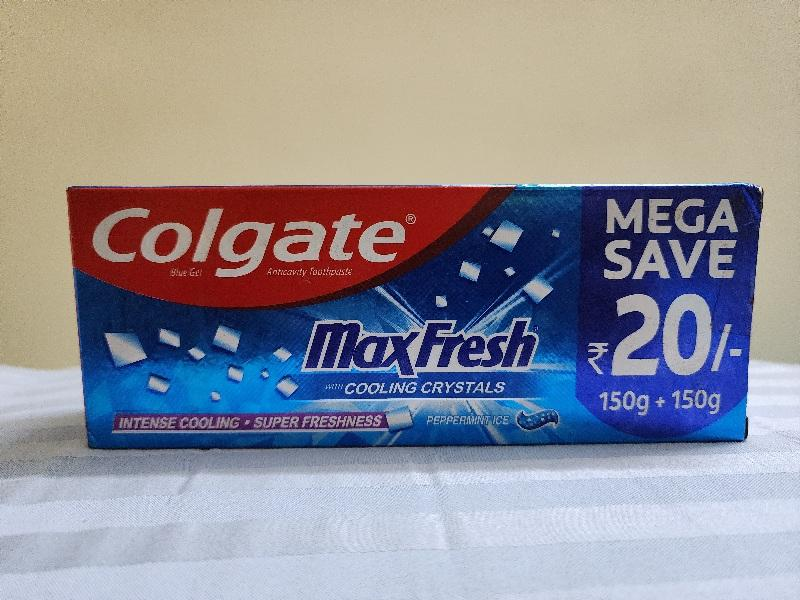Colgate: (66, 183, 767, 451)
